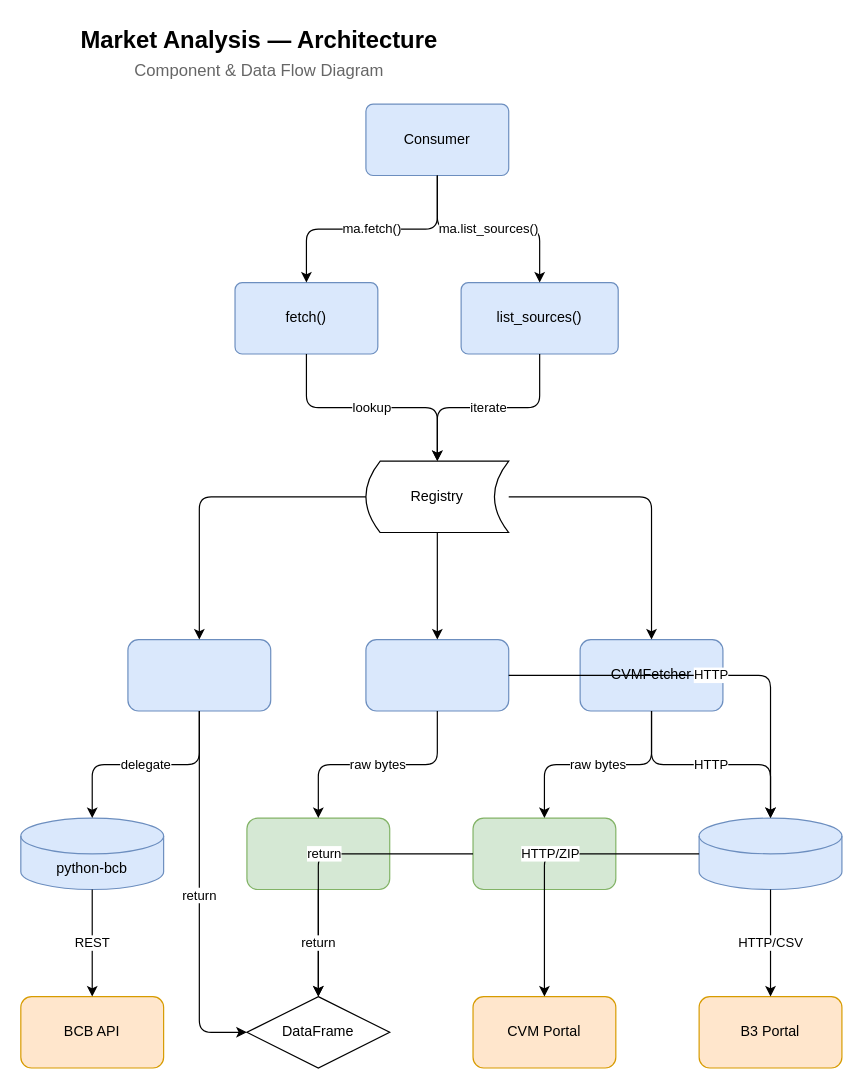
This 863x1089 diagram has some shape labels left out. Each missing label, with the centre of its shape:
B3 Parser: the point at 318,853
B3Fetcher: the point at 437,674
BCBFetcher: the point at 199,674
CVM Parser: the point at 544,853
httpx: the point at 770,853
